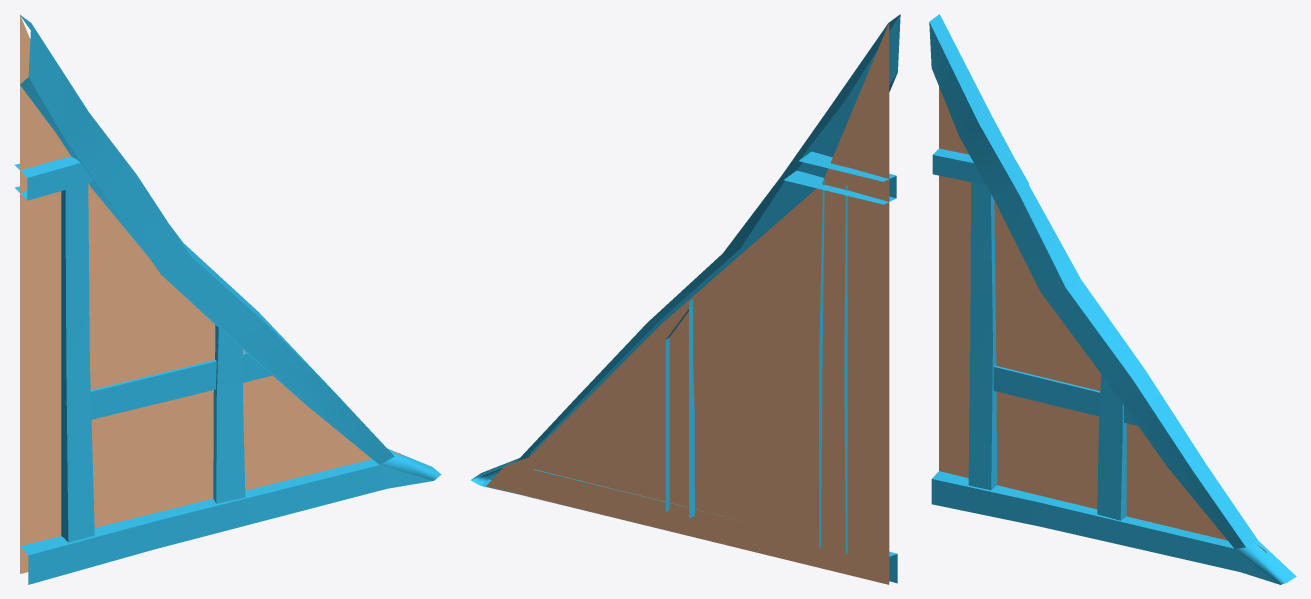
Rendered from Roof_Wall_01_wide_half_02.fbx.
The picture shows the model from 3 angles, left to right: view 1: azimuth 30°, elevation 25°; view 2: azimuth 150°, elevation 25°; view 3: azimuth 330°, elevation 25°; orthographic projection. The views are drawn at different scales.
Visible parts, largest first — view 1: Roof_Wall_01_wide_half_02; view 2: Roof_Wall_01_wide_half_02; view 3: Roof_Wall_01_wide_half_02.
Part boxes in pixels (box(x1,y1,x2,y2)): Roof_Wall_01_wide_half_02: box(14, 14, 441, 584); Roof_Wall_01_wide_half_02: box(470, 14, 900, 584); Roof_Wall_01_wide_half_02: box(929, 14, 1296, 584).
Bounding box in the file's own units: 524 × 681 × 37.94.
